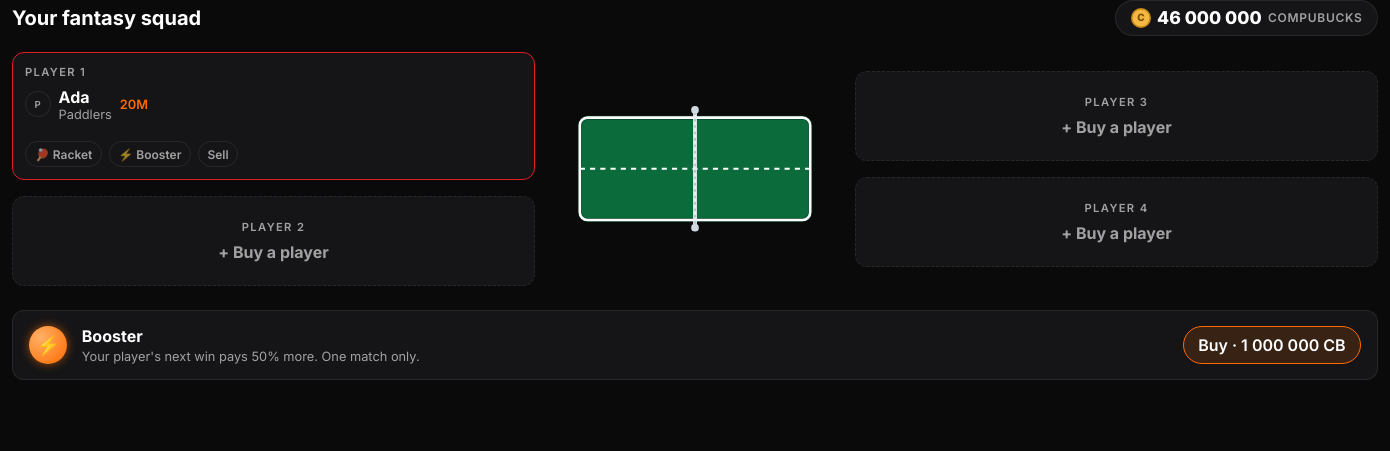
FantasyTeam › removes the power-up icon and shows a message when its background save fails
Click the button "🏓 Racket" at coordinates (64, 154), box [25,141,102,167]
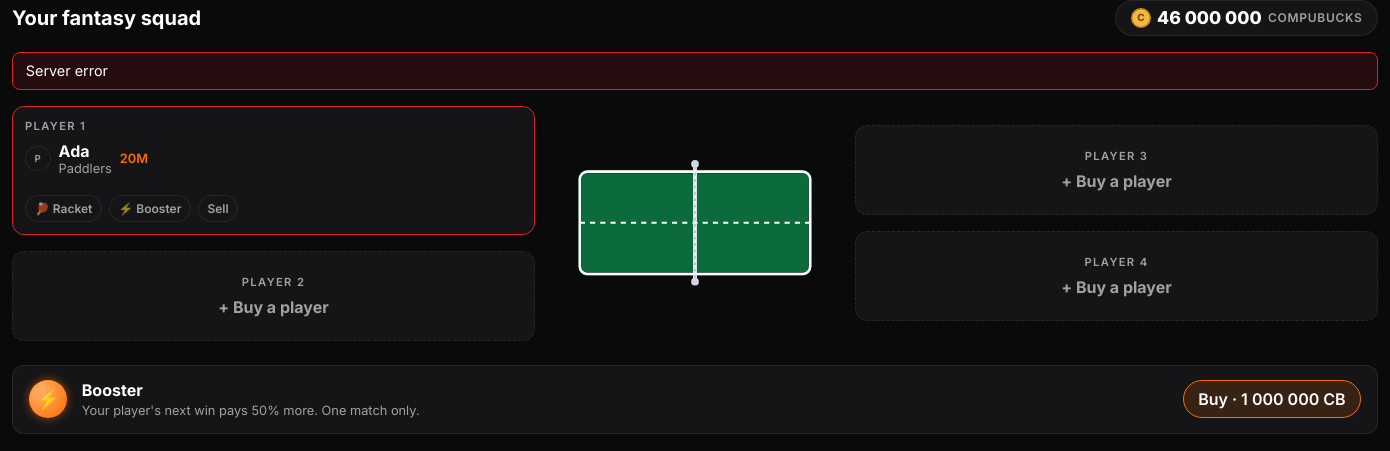
Check: the message reads "Server error", box [26,62,108,79]
